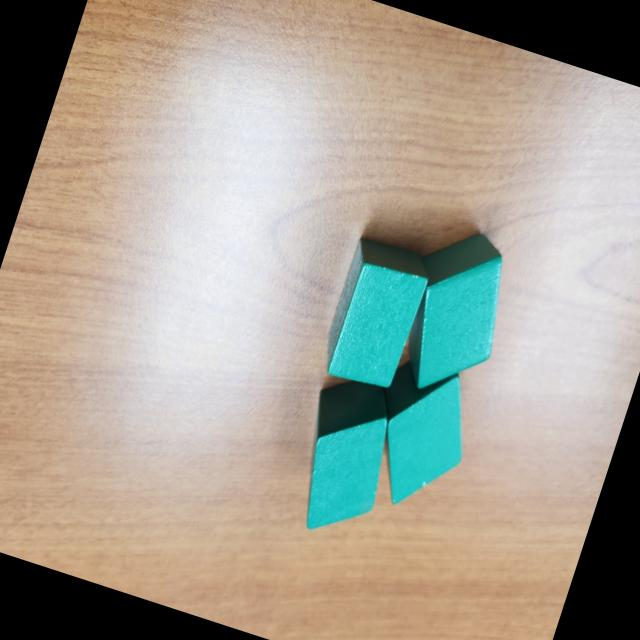green: (381, 218, 528, 410), (278, 369, 409, 546), (352, 352, 486, 521), (317, 233, 437, 397)
